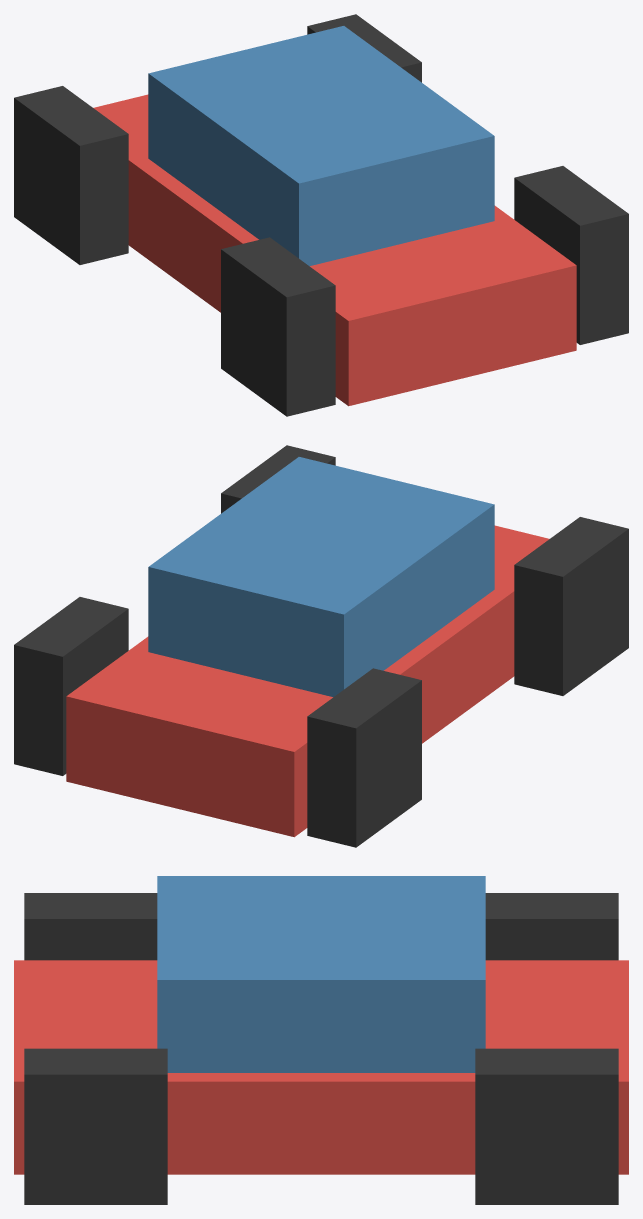
The model's file is car.glb.
3 views of the same model, one above another, from view 1: azimuth 30°, elevation 25°; view 2: azimuth 150°, elevation 25°; view 3: azimuth 270°, elevation 25° (orthographic). The views are drawn at different scales.
Size of the model in its own units: 2.1 by 1 by 3.
